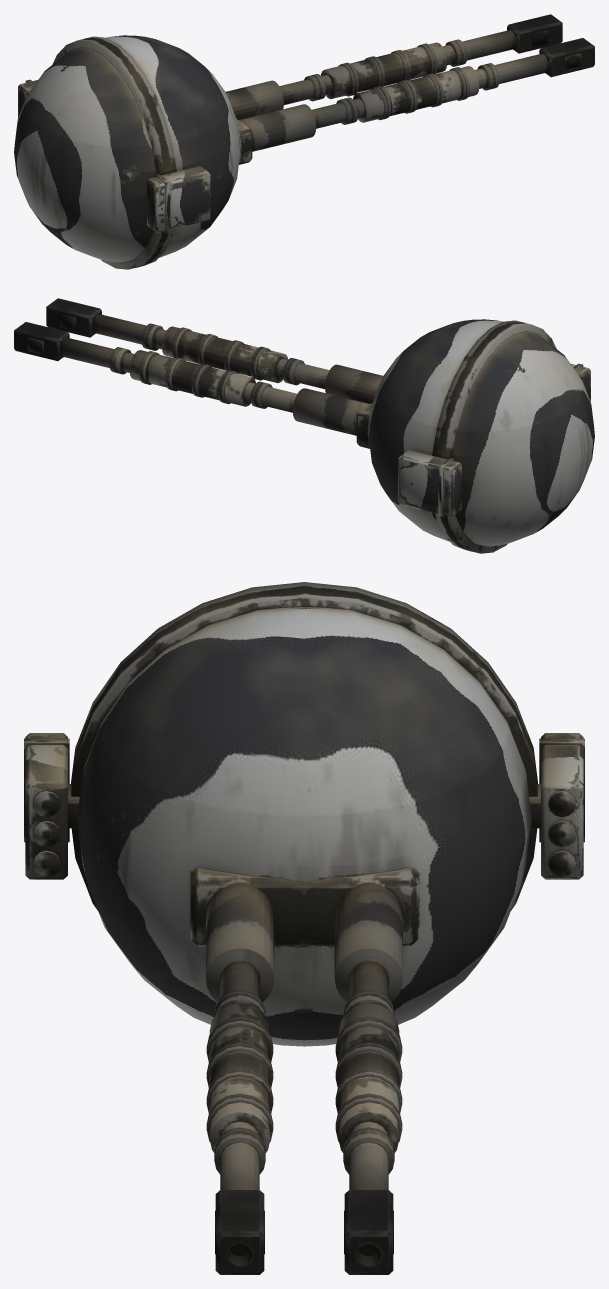
File: turret_kit_tail_ball_t3_arctic_tiger.glb
3 views of the same model, one above another, from view 1: azimuth 30°, elevation 25°; view 2: azimuth 150°, elevation 25°; view 3: azimuth 270°, elevation 25° (orthographic). The views are drawn at different scales.
Visible parts, largest first — view 1: turret_tail_ball_t3, pods; view 2: turret_tail_ball_t3, pods; view 3: turret_tail_ball_t3, pods.
Boxes of the visible parts, x1,y1,x2,y2 form: turret_tail_ball_t3: (14,14,594,269); pods: (18,79,210,232); turret_tail_ball_t3: (14,298,594,553); pods: (398,363,590,516); turret_tail_ball_t3: (71,582,537,1274); pods: (24,733,584,879).
Size of the model in its own units: 1.66 by 0.62 by 0.7402.
Materials: 2 (2 with a texture image).
